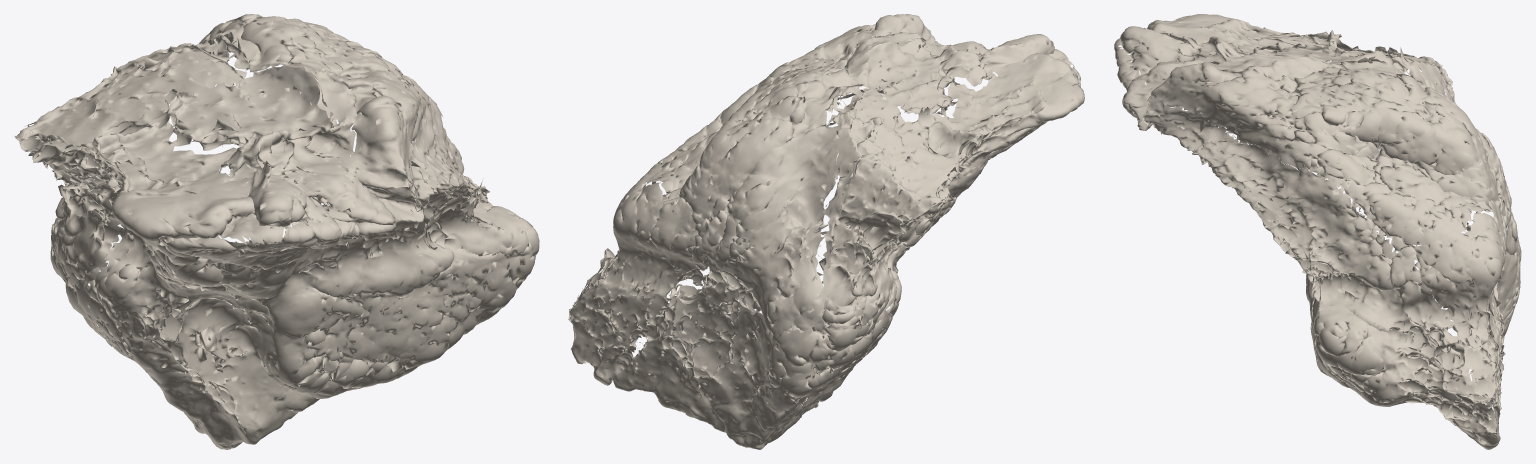
File: rock_17_cand02.glb
3 views of the same model, side by side, from view 1: azimuth 30°, elevation 25°; view 2: azimuth 150°, elevation 25°; view 3: azimuth 270°, elevation 25° (orthographic). The views are drawn at different scales.
Parts seen in each view (by area): view 1: world; view 2: world; view 3: world.
Part boxes in pixels (x1,y1,x2,y2): world: [14, 14, 539, 449]; world: [568, 14, 1084, 449]; world: [1114, 14, 1521, 449].
Bounding box in the file's own units: 1.59 × 1.39 × 1.48.
